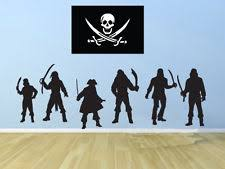Jolly Roger Flag: (68, 4, 148, 56)
